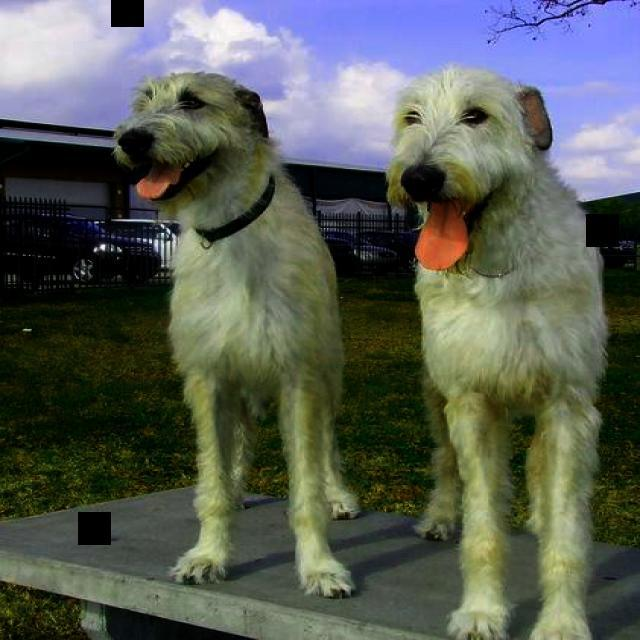adult_dog: (109, 73, 360, 599), (384, 66, 608, 640)
